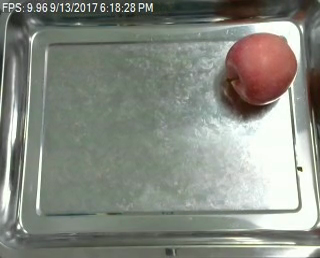Apple: (225, 31, 295, 109)
